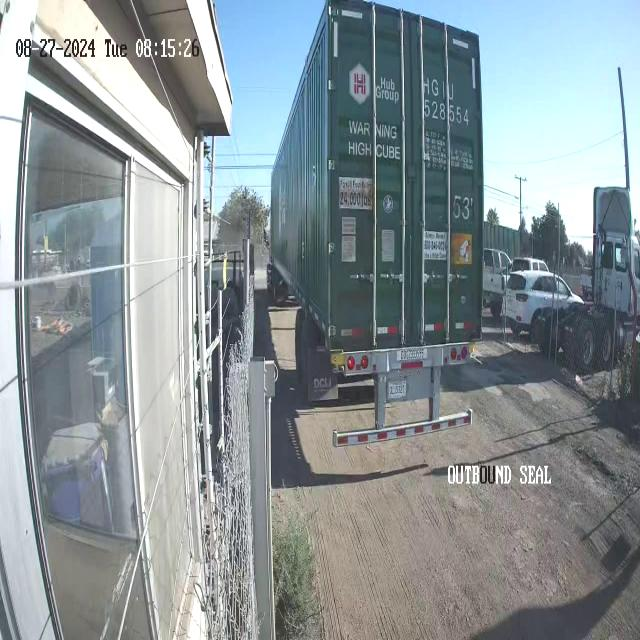CONTAINER: (270, 0, 484, 351)
